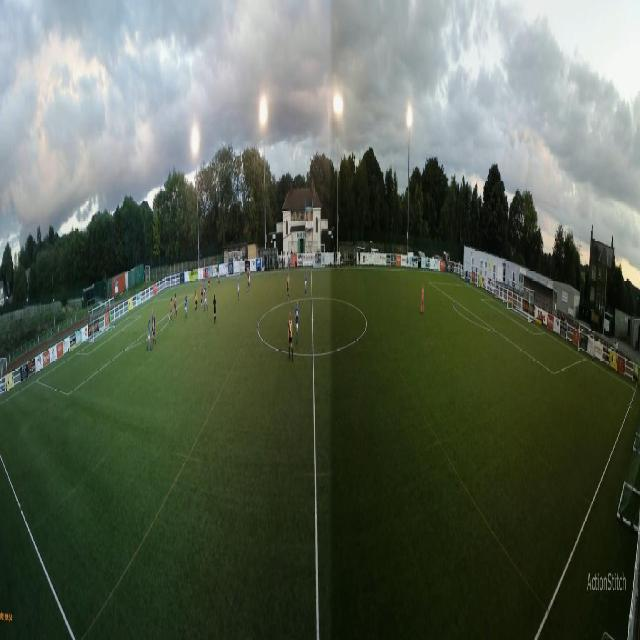ball: (204, 288, 205, 294)
player: (288, 310, 293, 361), (147, 317, 152, 354), (420, 283, 425, 317), (295, 302, 299, 344), (212, 294, 217, 325), (109, 307, 113, 335), (287, 272, 290, 303), (304, 268, 307, 299), (154, 317, 157, 346), (237, 273, 240, 300), (170, 297, 173, 323), (195, 288, 198, 314), (217, 266, 221, 285), (248, 267, 251, 291), (152, 316, 155, 338), (175, 292, 177, 319), (185, 295, 187, 321), (205, 287, 207, 312), (201, 282, 203, 307), (247, 268, 249, 292), (152, 305, 155, 319), (208, 272, 210, 291), (204, 280, 206, 296)
